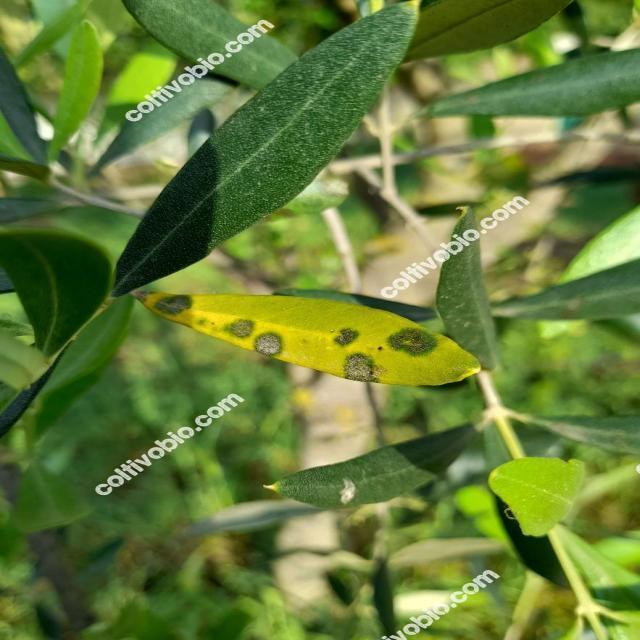OlivePeacockSpot: (136, 293, 482, 387)
